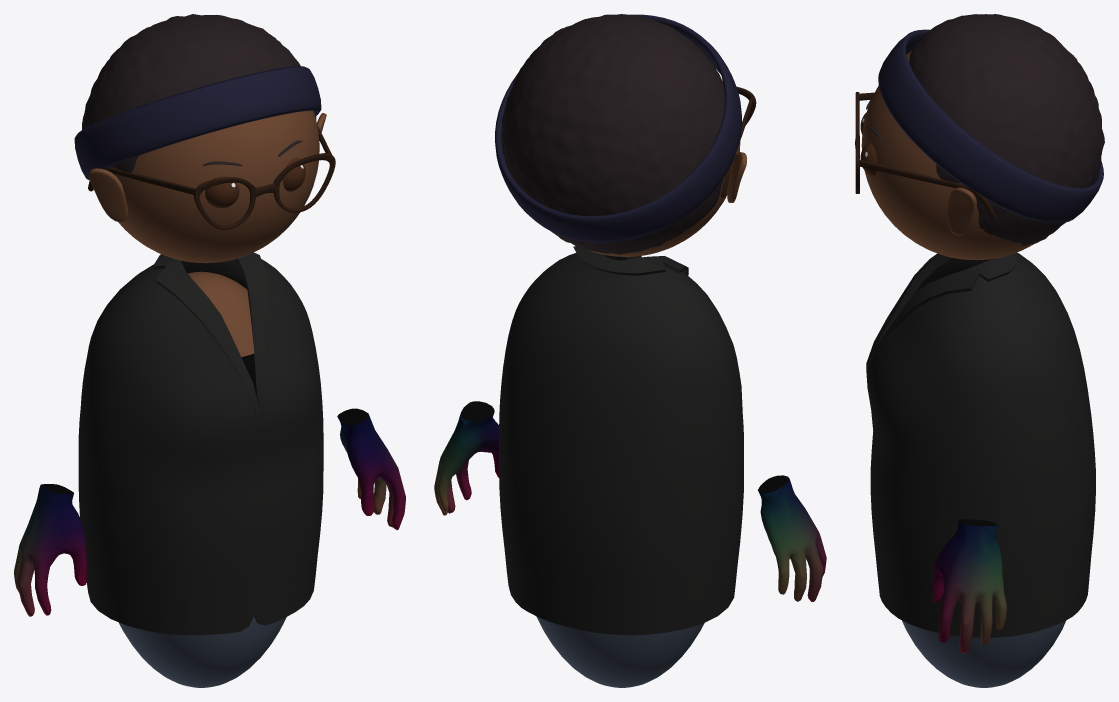
File: LynetteYiadom-Boakye.fbx
3 renders of one model, left to right at view 1: azimuth 30°, elevation 25°; view 2: azimuth 150°, elevation 25°; view 3: azimuth 270°, elevation 25°, orthographic.
Parts seen in each view (by area): view 1: Plane.002, Head.011, Sphere.005, Sphere.006, Hands.011, Body.017, Cube.017, Cube.016, Eyes.011; view 2: Plane.002, Sphere.005, Sphere.006, Hands.011, Body.017, Head.011, Cube.016; view 3: Plane.002, Sphere.005, Sphere.006, Head.011, Hands.011, Body.017, Cube.017, Cube.016, Eyes.011.
Part boxes in pixels (box(x1,y1,x2,y2)): Plane.002: box(78, 252, 323, 635); Head.011: box(113, 110, 319, 263); Sphere.005: box(82, 14, 316, 172); Sphere.006: box(74, 66, 321, 180); Hands.011: box(14, 408, 405, 616); Body.017: box(118, 271, 286, 687); Cube.017: box(88, 125, 335, 229); Cube.016: box(88, 113, 326, 222); Eyes.011: box(205, 157, 305, 208); Plane.002: box(499, 246, 743, 635); Sphere.005: box(501, 14, 724, 254); Sphere.006: box(495, 14, 741, 242); Hands.011: box(434, 401, 826, 601); Body.017: box(536, 616, 704, 687); Head.011: box(588, 141, 740, 256); Cube.016: box(727, 152, 746, 202); Plane.002: box(866, 252, 1095, 637); Sphere.005: box(909, 14, 1104, 246); Sphere.006: box(878, 29, 1103, 223); Head.011: box(861, 50, 1033, 260); Hands.011: box(932, 519, 1006, 653); Body.017: box(902, 620, 1066, 687); Cube.017: box(855, 92, 995, 220); Cube.016: box(947, 187, 976, 235); Eyes.011: box(860, 112, 877, 176).
Bounding box in the file's own units: 383 × 627 × 216.
